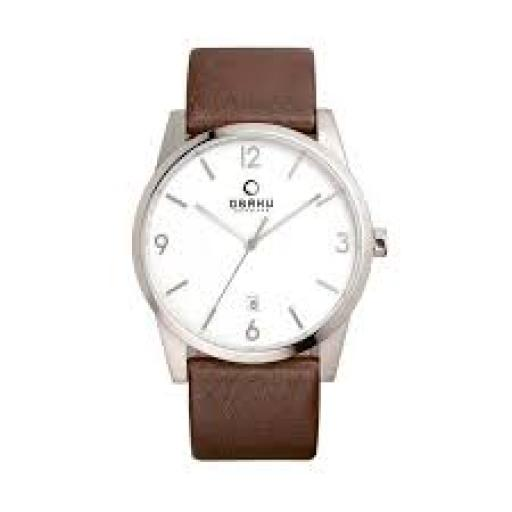KolSaati: (59, 11, 429, 512)
